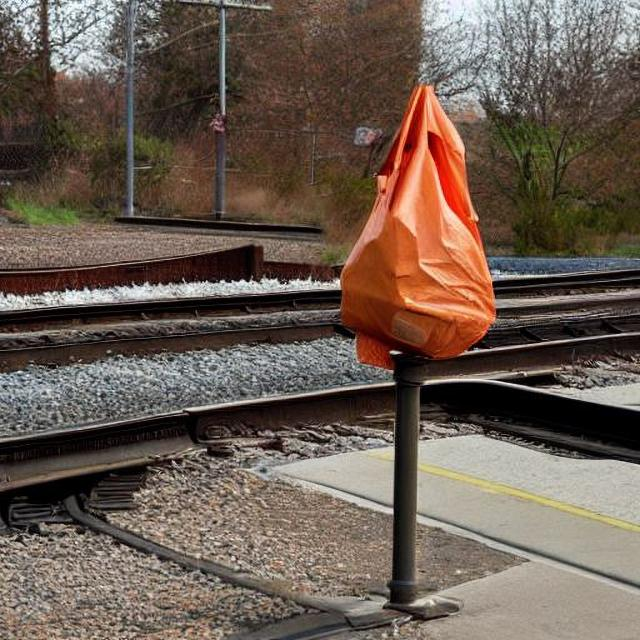plastic bag: (331, 81, 537, 398)
